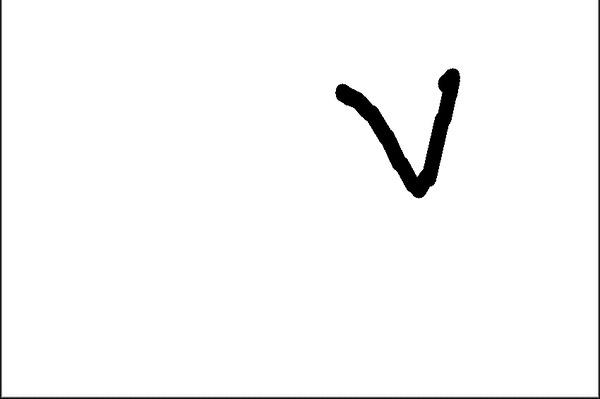V: (328, 60, 481, 202)
